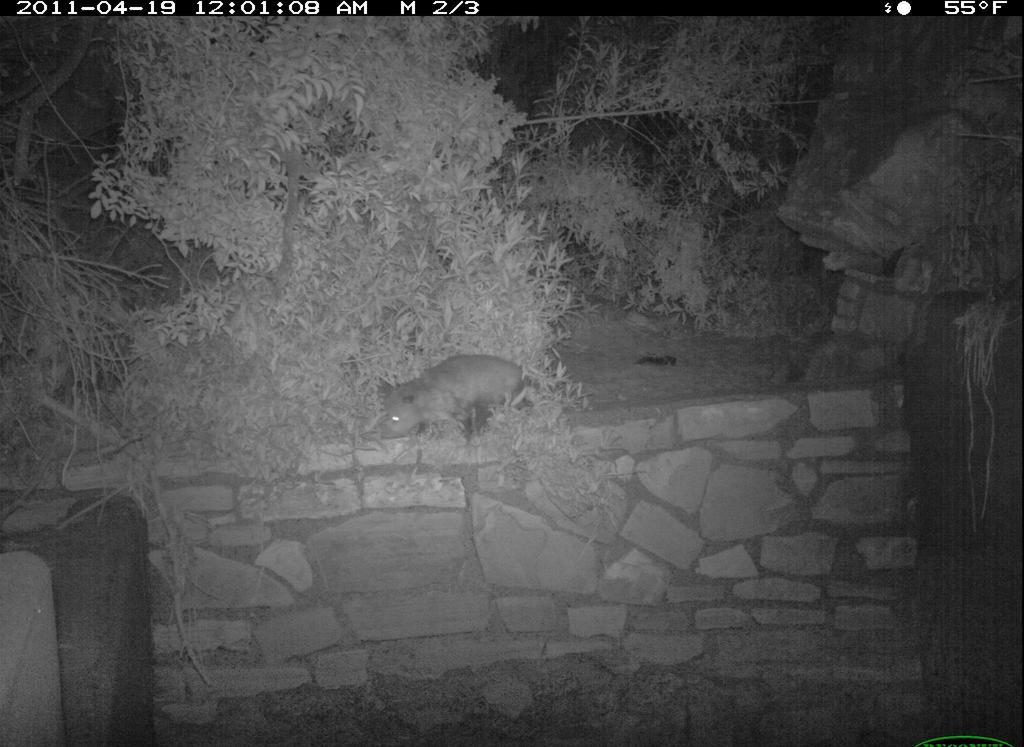opossum: (364, 346, 546, 460)
